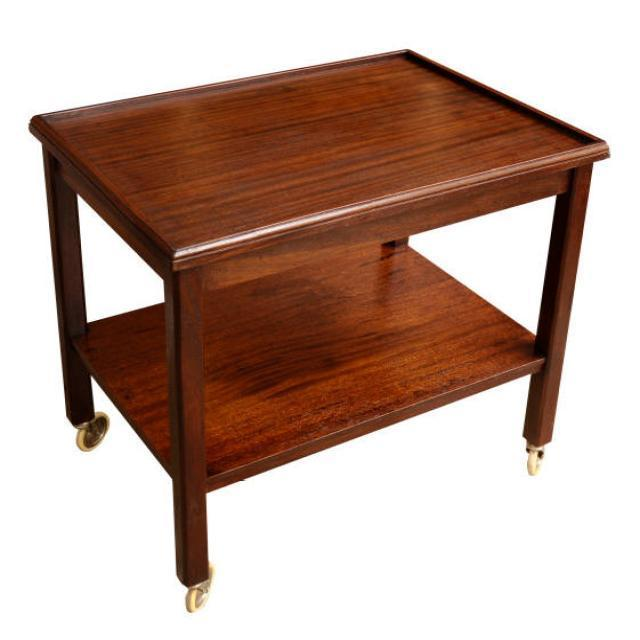table: (28, 47, 610, 612)
